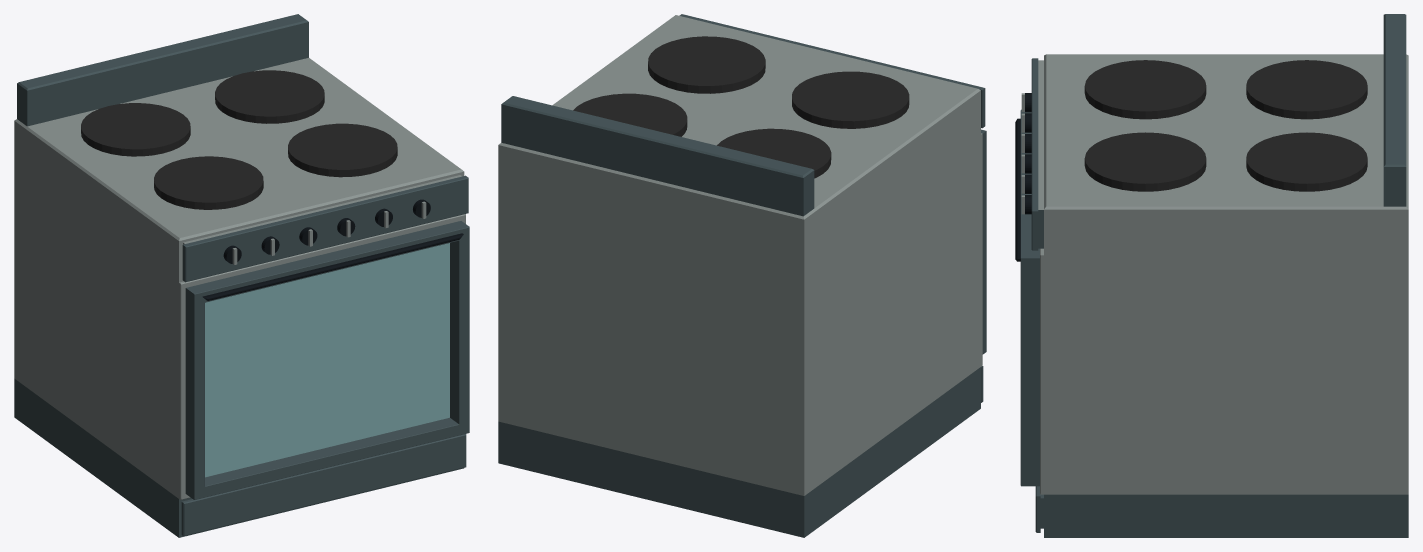
File: low-poly_oven.glb
3 renders of one model, left to right at view 1: azimuth 30°, elevation 25°; view 2: azimuth 150°, elevation 25°; view 3: azimuth 270°, elevation 25°, orthographic. The views are drawn at different scales.
Visible parts, largest first — view 1: Cube_0, Cylinder_3, Cylinder.001_4; view 2: Cube_0, Cylinder_3; view 3: Cube_0, Cylinder_3, Cylinder.001_4.
Boxes of the visible parts, x1=… form: Cube_0: x1=14, y1=14, x2=469, y2=537; Cylinder_3: x1=81, y1=70, x2=397, y2=209; Cylinder.001_4: x1=223, y1=199, x2=430, y2=264; Cube_0: x1=498, y1=14, x2=986, y2=537; Cylinder_3: x1=573, y1=36, x2=909, y2=178; Cube_0: x1=1015, y1=14, x2=1408, y2=537; Cylinder_3: x1=1084, y1=60, x2=1367, y2=191; Cylinder.001_4: x1=1021, y1=93, x2=1031, y2=214.
Bounding box in the file's own units: 6 × 6.75 × 6.47.
Materials: 2 (1 with a texture image).
